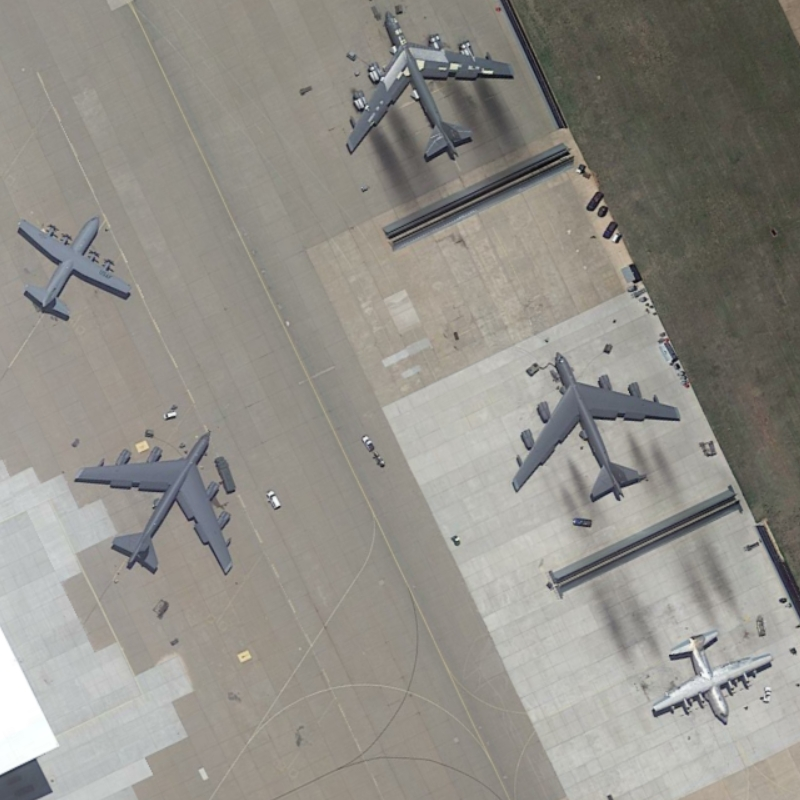A2: (11, 203, 137, 329), (644, 624, 778, 733)
A8: (337, 4, 526, 166), (509, 342, 685, 513), (66, 420, 240, 584)
